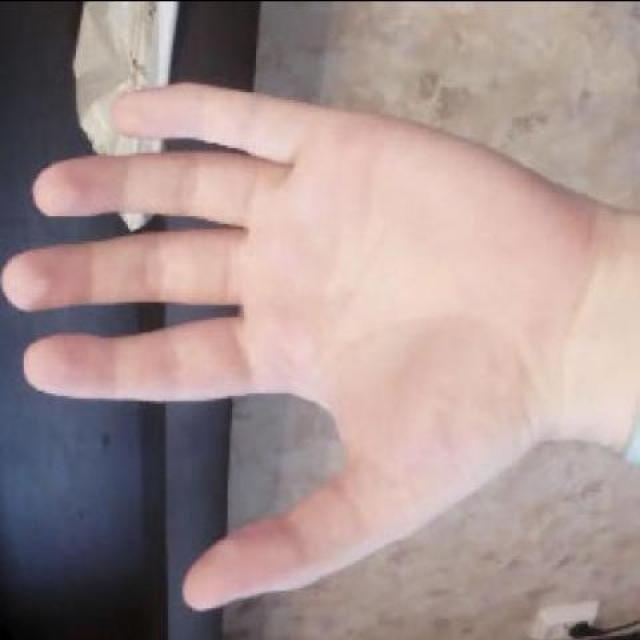Open Hand: (0, 76, 640, 612)
